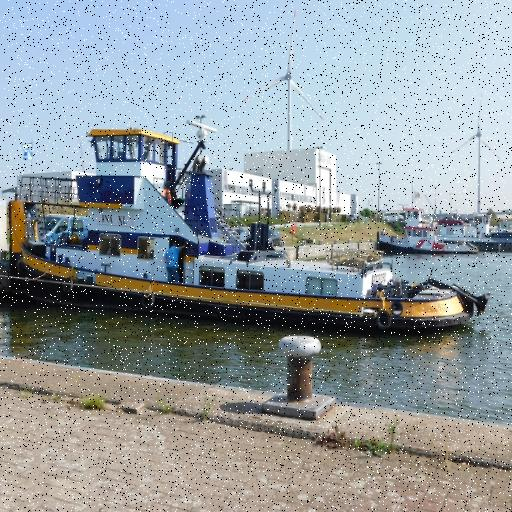tugboat: (4, 122, 495, 336)
